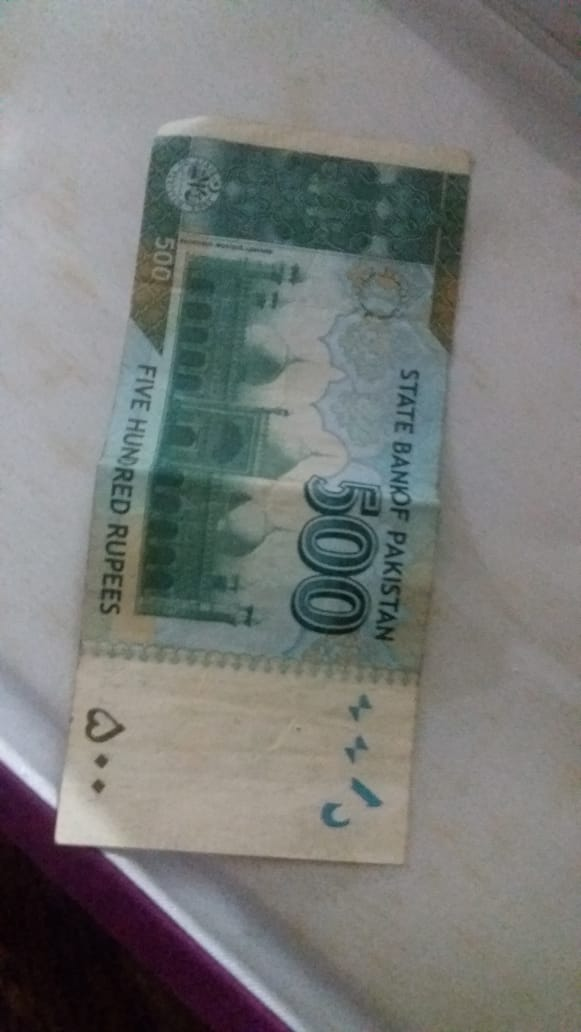500 rupee: (31, 134, 510, 876)
